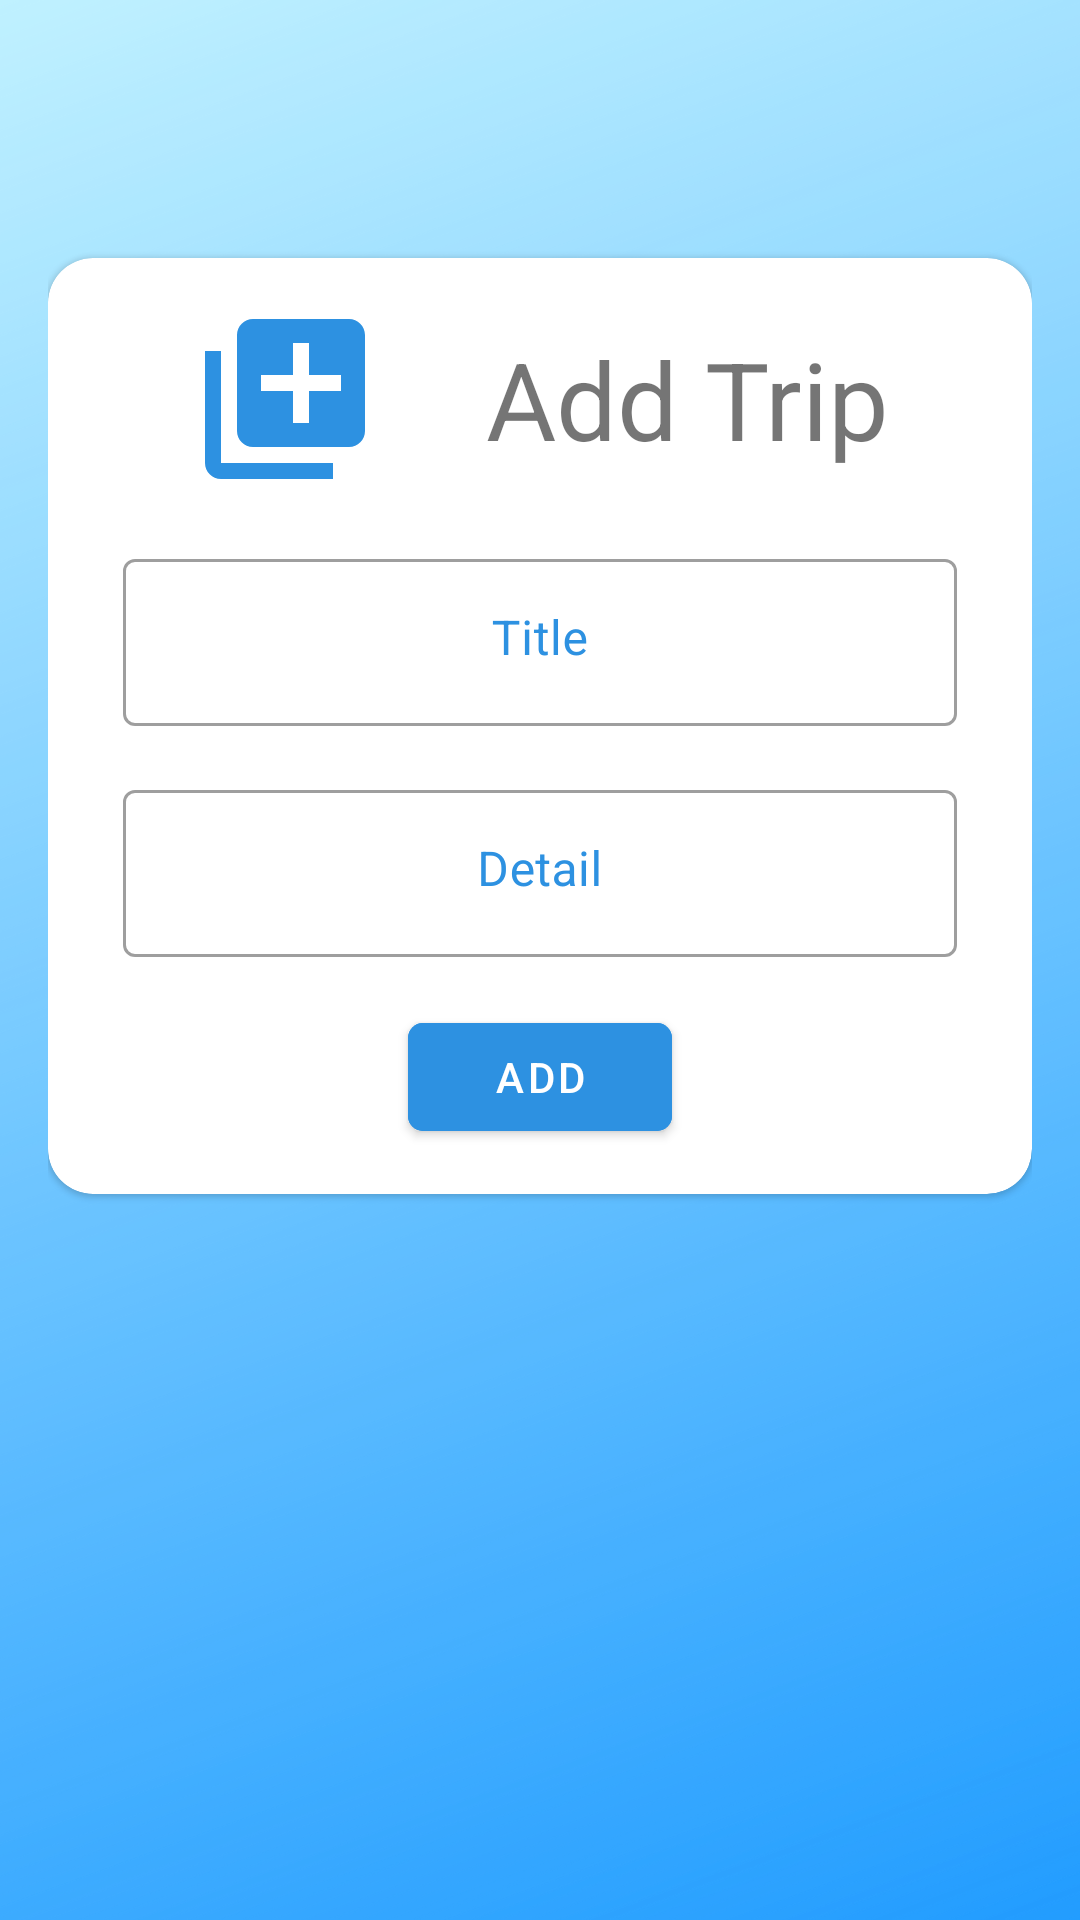

Where icons sit on this 1080x1920 app screen, as (x1, y1, x2, y2):
library add: (205, 319, 365, 479)
